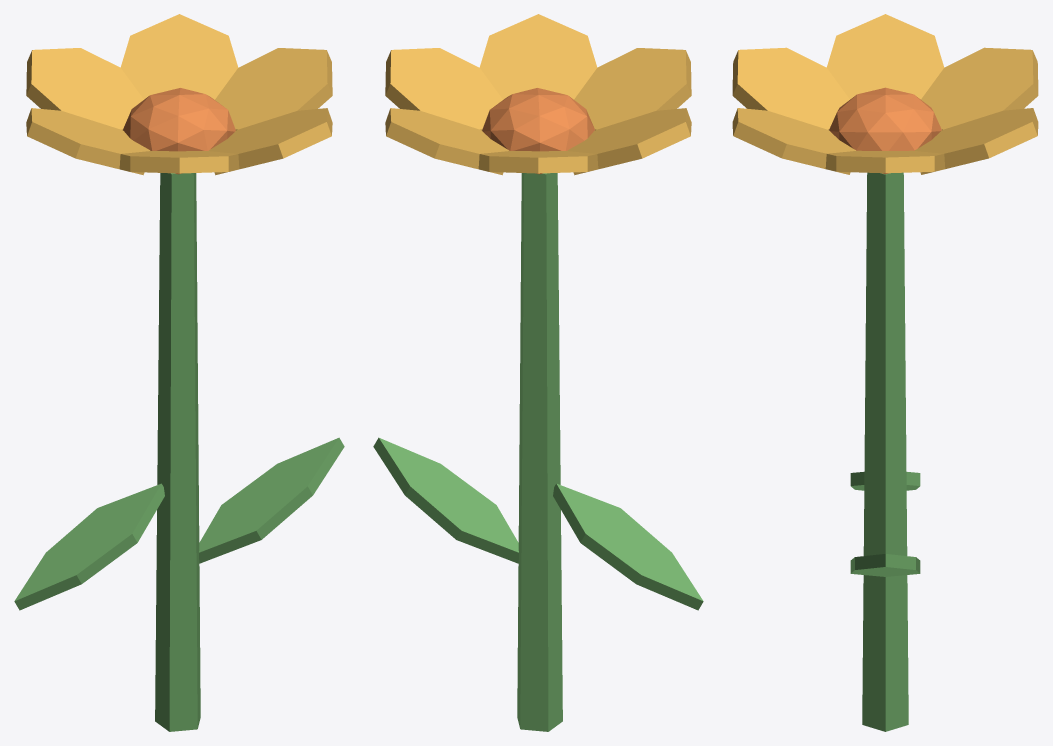
The model's file is deco_flower_yellow.obj.
The picture shows the model from 3 angles, left to right: view 1: azimuth 30°, elevation 25°; view 2: azimuth 150°, elevation 25°; view 3: azimuth 270°, elevation 25°; orthographic projection.
Parts seen in each view (by area): view 1: deco_flower_yellow; view 2: deco_flower_yellow; view 3: deco_flower_yellow.
Boxes of the visible parts, x1,y1,x2,y2 form: deco_flower_yellow: (14, 14, 344, 731); deco_flower_yellow: (373, 14, 703, 731); deco_flower_yellow: (732, 14, 1038, 731).
Size of the model in its own units: 0.0436 by 0.0802 by 0.035.
1 material, 1 textured.
